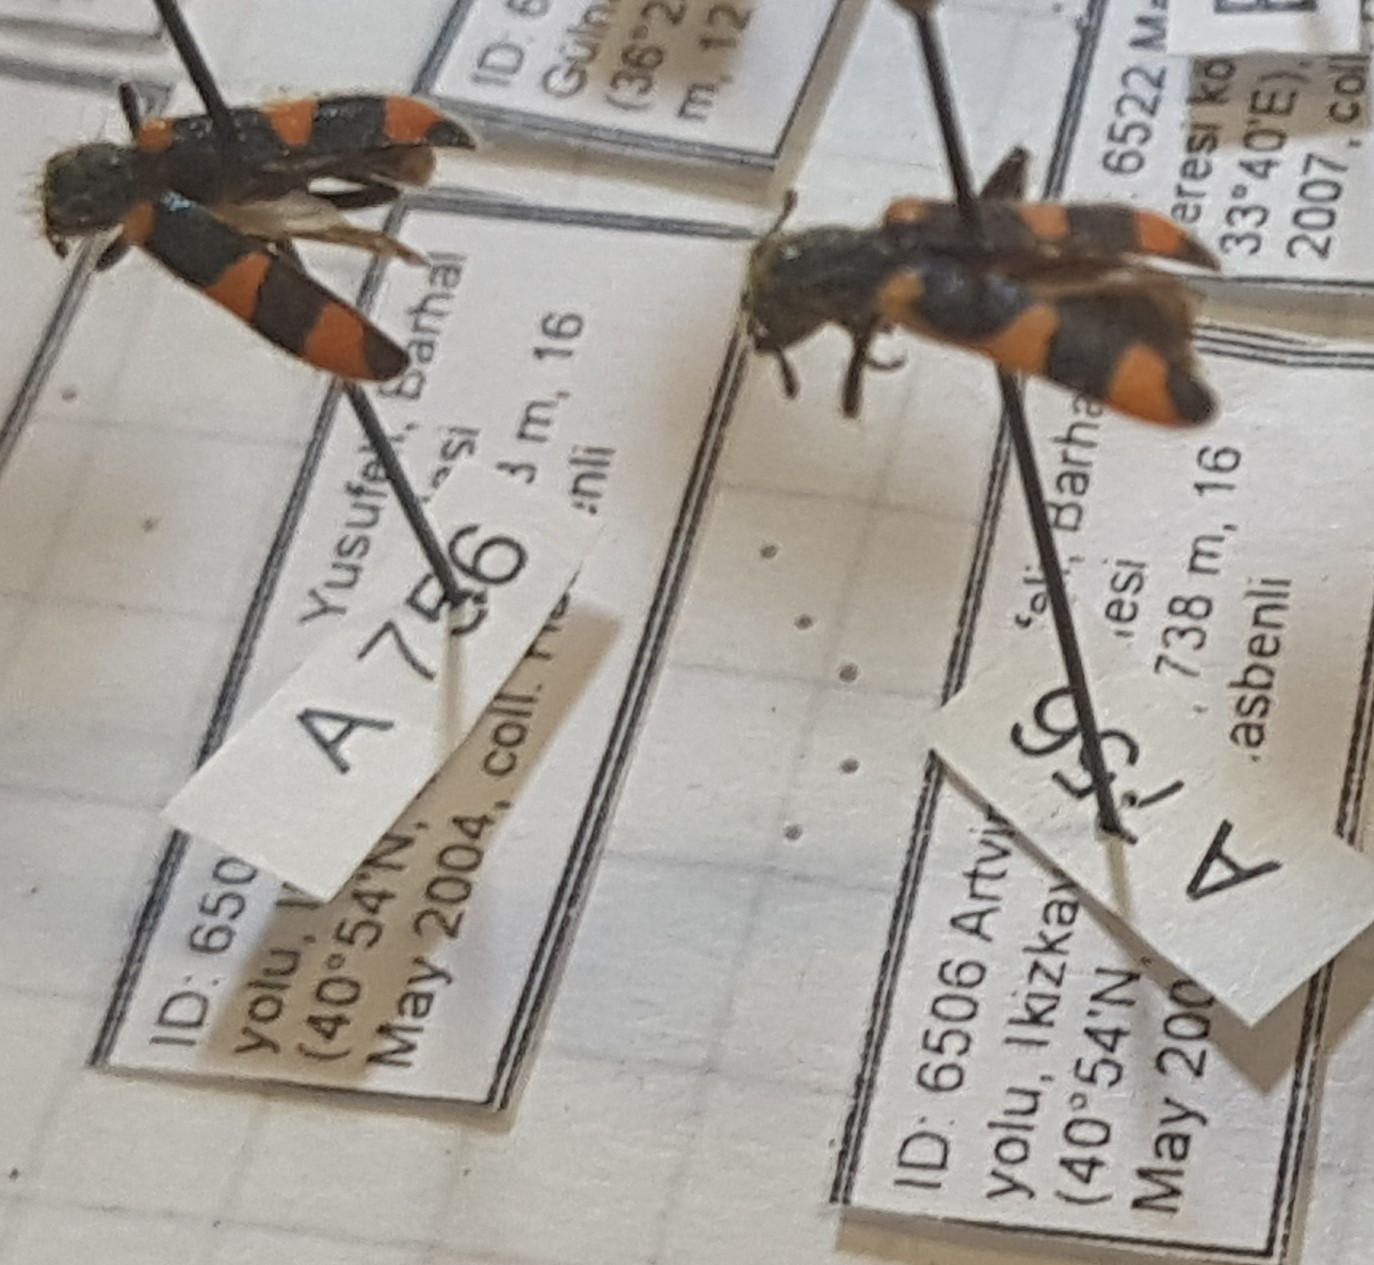trichodes_holtzi: (731, 145, 1238, 466), (26, 69, 490, 395)
